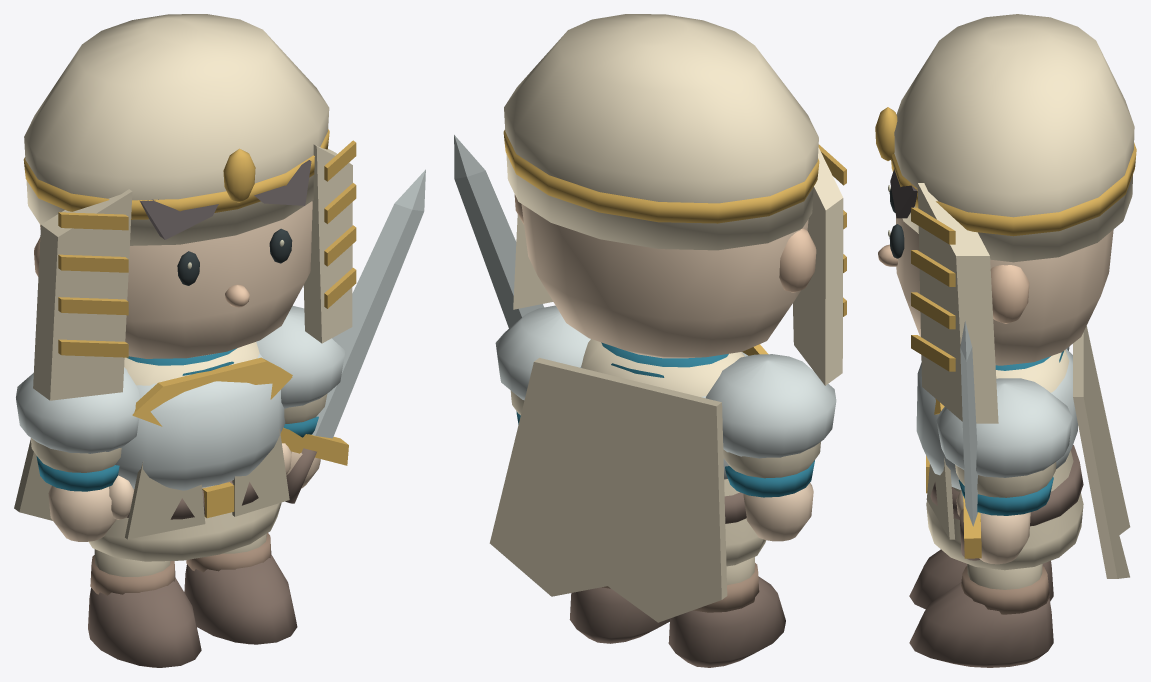
Rendered from knight.glb.
The picture shows the model from 3 angles, left to right: view 1: azimuth 30°, elevation 25°; view 2: azimuth 150°, elevation 25°; view 3: azimuth 270°, elevation 25°; orthographic projection. The views are drawn at different scales.
Visible parts, largest first — view 1: Striped nemes crown, Soft cheek head, Rounded breastplate, Nemes shoulder wing, Round leather boot, Short folded tunic, Shaped bevel sword, Round leather boot.001, Big shoulder armour, Nemes shoulder wing.001, Big shoulder armour.001, Nemes front band (+27 smaller); view 2: Striped nemes crown, Short scalloped cape, Soft cheek head, Big shoulder armour, Nemes shoulder wing, Nemes front band, Round leather boot, Shaped bevel sword, Short folded tunic, Big shoulder armour.001, Round leather boot.001, Little mitten (+7 smaller); view 3: Striped nemes crown, Nemes shoulder wing.001, Soft cheek head, Big shoulder armour.001, Round leather boot.001, Short scalloped cape, Short folded tunic, Nemes front band, Rounded breastplate, Shaped bevel sword, Little mitten.001, Boot turn cuff.001 (+15 smaller).
Boxes of the visible parts, x1,y1,x2,y2 form: Striped nemes crown: [24, 14, 329, 245]; Soft cheek head: [40, 201, 312, 358]; Rounded breastplate: [115, 354, 285, 490]; Nemes shoulder wing: [33, 189, 132, 400]; Round leather boot: [88, 577, 201, 667]; Short folded tunic: [88, 342, 281, 561]; Shaped bevel sword: [312, 169, 425, 438]; Round leather boot.001: [184, 554, 297, 644]; Big shoulder armour: [16, 367, 139, 453]; Nemes shoulder wing.001: [303, 144, 352, 343]; Big shoulder armour.001: [256, 306, 345, 408]; Nemes front band: [23, 129, 329, 219]; Striped nemes crown: [504, 14, 818, 250]; Short scalloped cape: [489, 358, 727, 622]; Soft cheek head: [521, 204, 808, 358]; Big shoulder armour: [706, 354, 836, 458]; Nemes shoulder wing: [793, 147, 843, 385]; Nemes front band: [503, 130, 819, 223]; Round leather boot: [668, 576, 785, 667]; Shaped bevel sword: [454, 135, 544, 328]; Short folded tunic: [581, 339, 765, 566]; Big shoulder armour.001: [495, 305, 590, 400]; Round leather boot.001: [569, 587, 669, 643]; Little mitten: [743, 483, 813, 541]; Striped nemes crown: [894, 14, 1134, 262]; Nemes shoulder wing.001: [917, 183, 998, 423]; Soft cheek head: [896, 216, 1113, 365]; Big shoulder armour.001: [936, 378, 1072, 477]; Round leather boot.001: [909, 582, 1053, 667]; Short scalloped cape: [1073, 326, 1130, 578]; Short folded tunic: [926, 350, 1083, 570]; Nemes front band: [891, 142, 1136, 236]; Rounded breastplate: [916, 349, 1078, 489]; Shaped bevel sword: [960, 320, 977, 526]; Little mitten.001: [979, 512, 1030, 564]; Boot turn cuff.001: [961, 566, 1049, 614].
Size of the model in its own units: 1.04 by 1.54 by 0.615.
